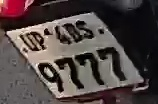4: (52, 26, 70, 44)
7: (95, 45, 128, 81), (75, 54, 106, 86), (56, 54, 82, 90)
9: (37, 60, 63, 92)
D: (63, 21, 82, 43)
P: (33, 30, 46, 49)
S: (74, 19, 93, 38)
U: (19, 32, 37, 52)
